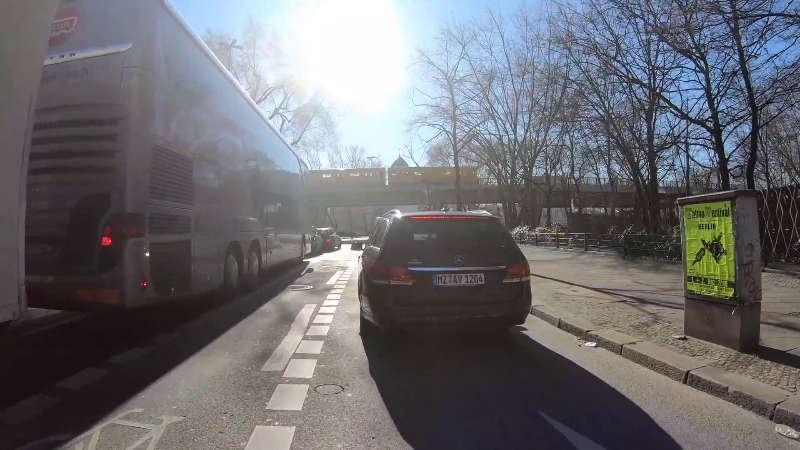Plate: (430, 271, 486, 287)
